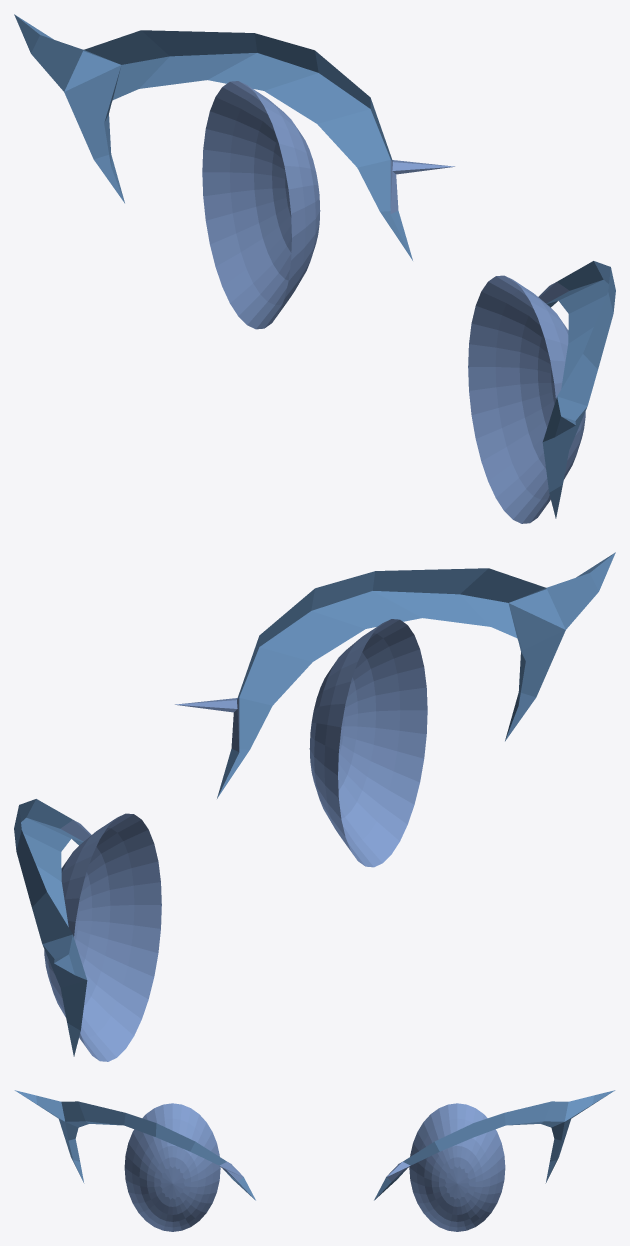
File: eye.fbx
The picture shows the model from 3 angles, top to bottom: view 1: azimuth 30°, elevation 25°; view 2: azimuth 150°, elevation 25°; view 3: azimuth 270°, elevation 25°; orthographic projection. The views are drawn at different scales.
Parts seen in each view (by area): view 1: eye; view 2: eye; view 3: eye.
Boxes of the visible parts, x1,y1,x2,y2 form: eye: (14, 14, 615, 523); eye: (14, 552, 615, 1061); eye: (14, 1090, 615, 1231).
Bounding box in the file's own units: 13.32 × 13.7 × 56.37.
